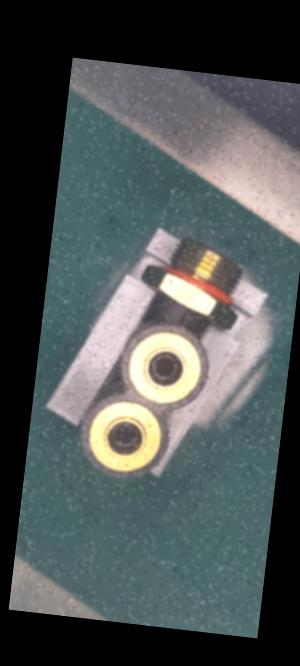craze: (176, 305, 190, 327)
